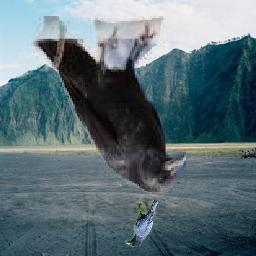Crow: (30, 16, 187, 196), (126, 199, 159, 247)
